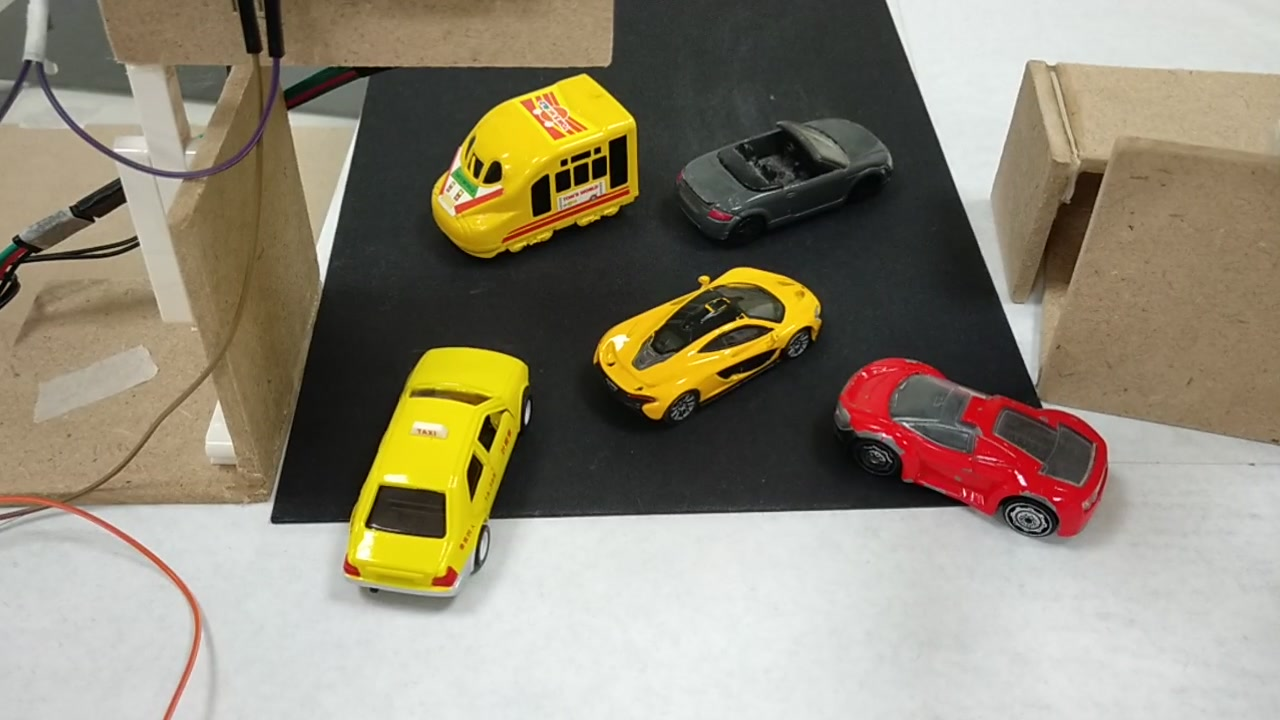car: (830, 361, 1114, 539), (340, 361, 537, 588), (585, 272, 820, 406), (672, 118, 898, 227)
